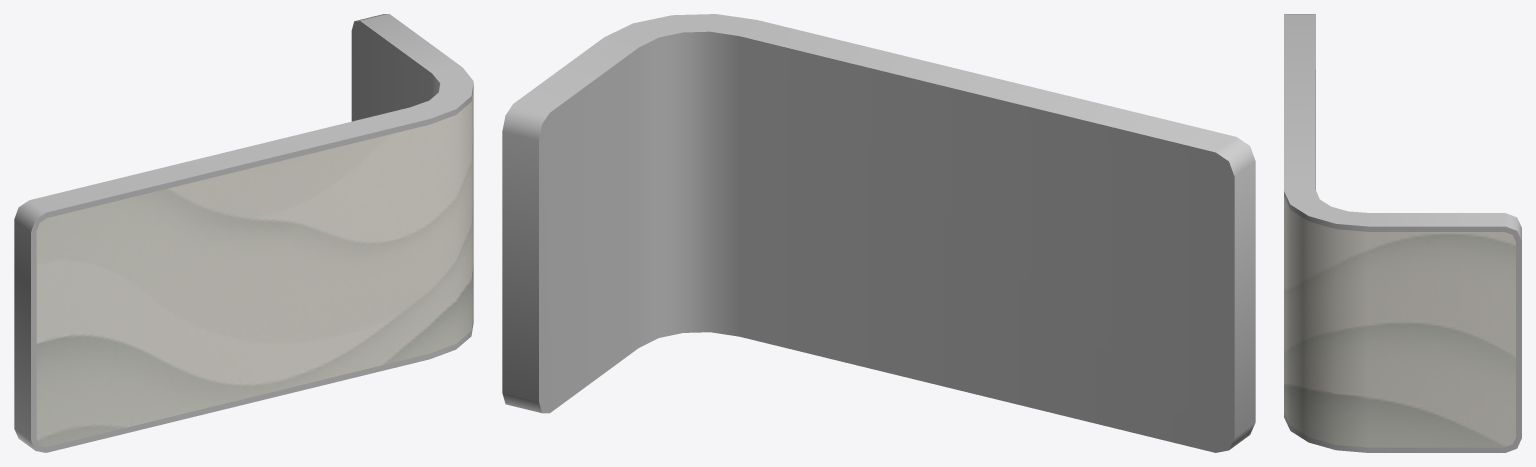
File: Billboard_3x1_02.fbx
3 renders of one model, left to right at view 1: azimuth 30°, elevation 25°; view 2: azimuth 150°, elevation 25°; view 3: azimuth 270°, elevation 25°, orthographic. The views are drawn at different scales.
Parts seen in each view (by area): view 1: Billboard_3x1_02; view 2: Billboard_3x1_02; view 3: Billboard_3x1_02.
Part boxes in pixels (x1=…): Billboard_3x1_02: x1=14, y1=14, x2=473, y2=452; Billboard_3x1_02: x1=502, y1=14, x2=1255, y2=452; Billboard_3x1_02: x1=1284, y1=14, x2=1521, y2=452.
Bounding box in the file's own units: 1035 × 475 × 499.
